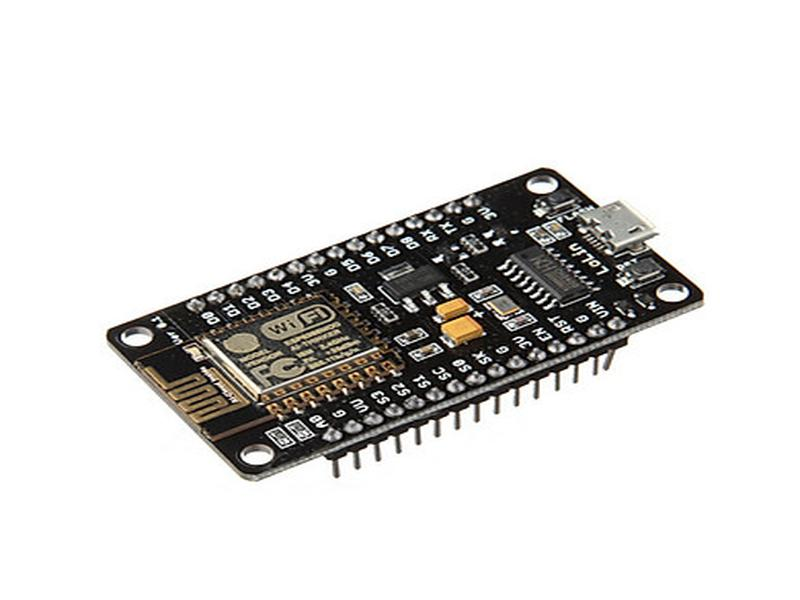ESP8266: (93, 153, 710, 500)
